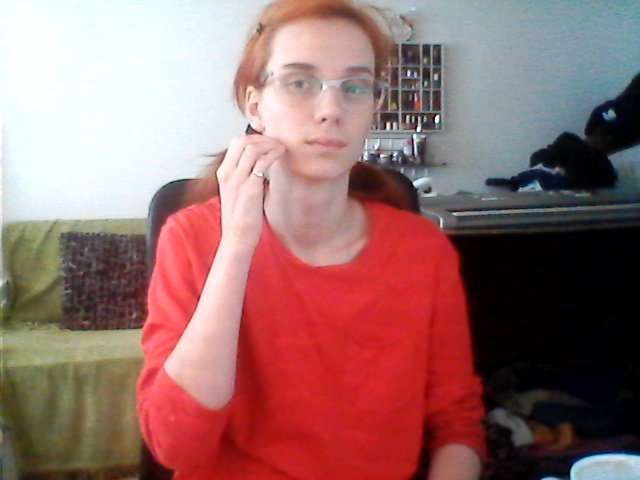dievca: (213, 117, 315, 242)
